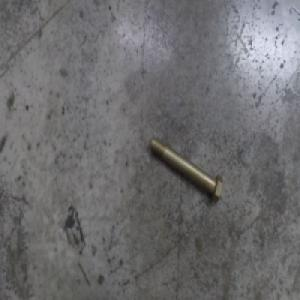Bolt: (148, 133, 223, 204)
